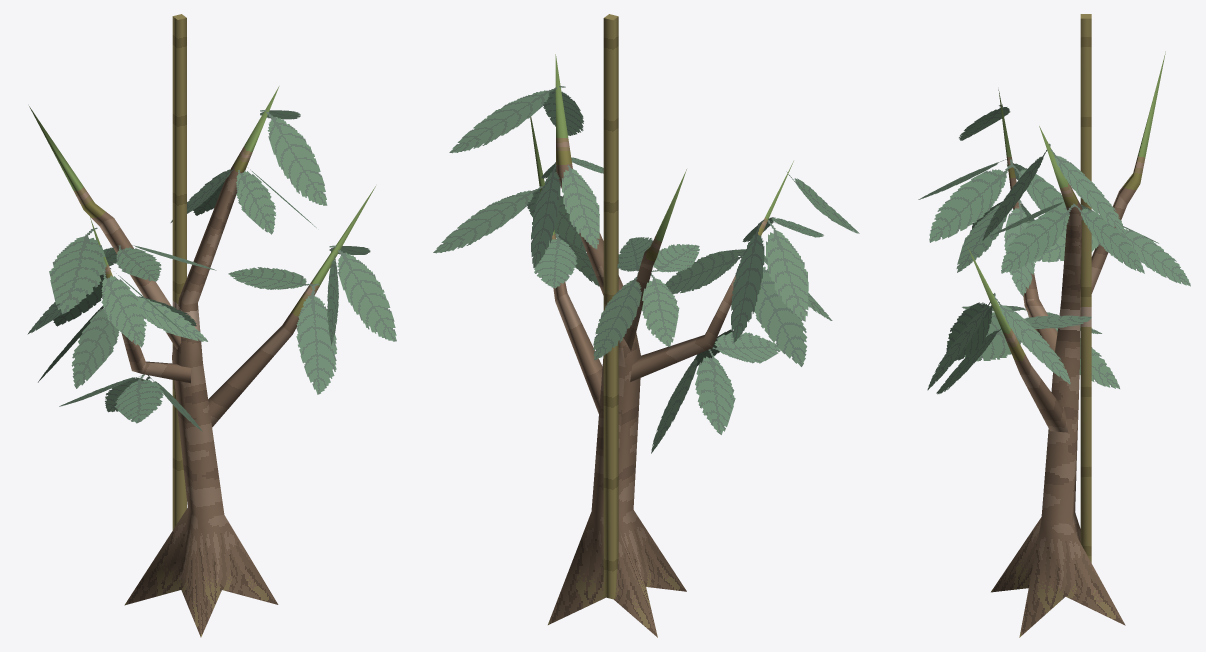
The model's file is 0369_Cherry_Tree.glb.
3 views of the same model, side by side, from view 1: azimuth 30°, elevation 25°; view 2: azimuth 150°, elevation 25°; view 3: azimuth 270°, elevation 25° (orthographic). The views are drawn at different scales.
Parts seen in each view (by area): view 1: part_0; view 2: part_0; view 3: part_0.
Boxes of the visible parts, x1=… form: part_0: x1=27, y1=14, x2=396, y2=637; part_0: x1=433, y1=14, x2=859, y2=637; part_0: x1=918, y1=14, x2=1190, y2=637.
Bounding box in the file's own units: 0.3218 × 0.4861 × 0.217.
1 material, 1 textured.
